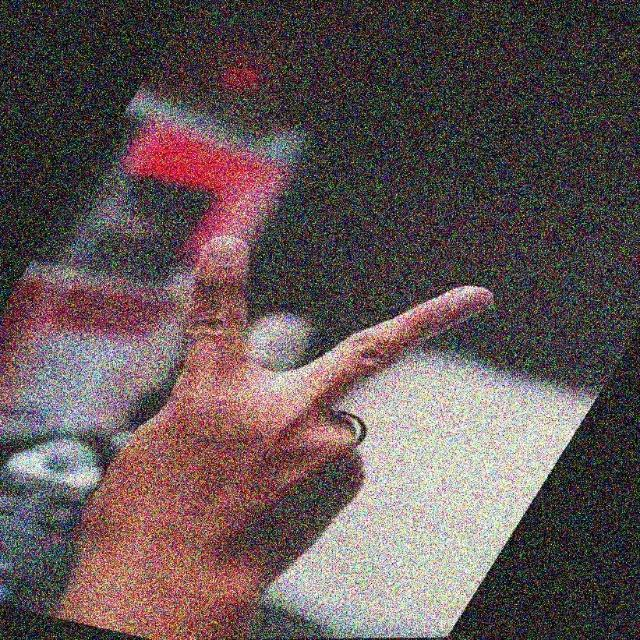V: (155, 223, 500, 507)
